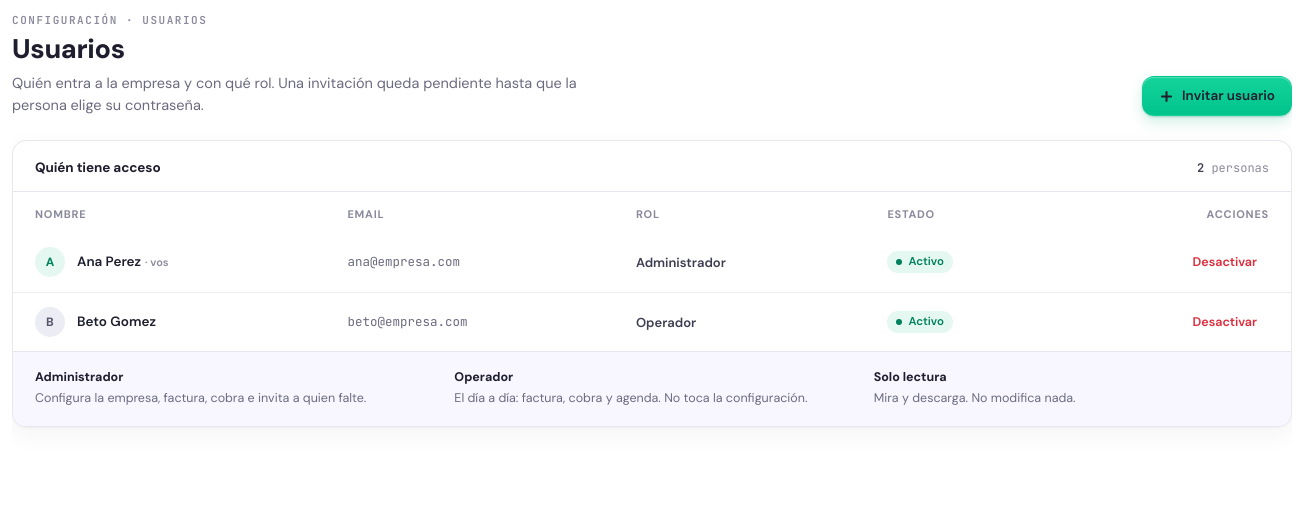
Scenario: caso 40 — desactivar pide confirmación › si se confirma, desactiva y lo dice
Click the button "Desactivar" in the row of "Beto Gomez" at {"x": 1225, "y": 322}, box [1180,305,1269,339]
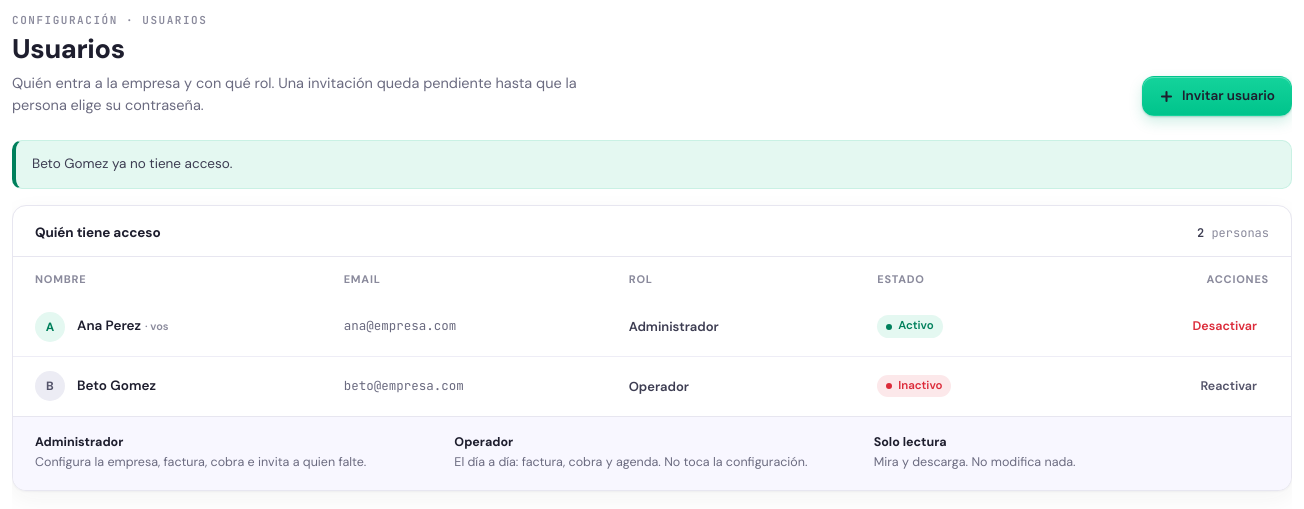
Now the text "Beto Gomez ya no tiene acceso." is shown, box [12,140,1292,189]
